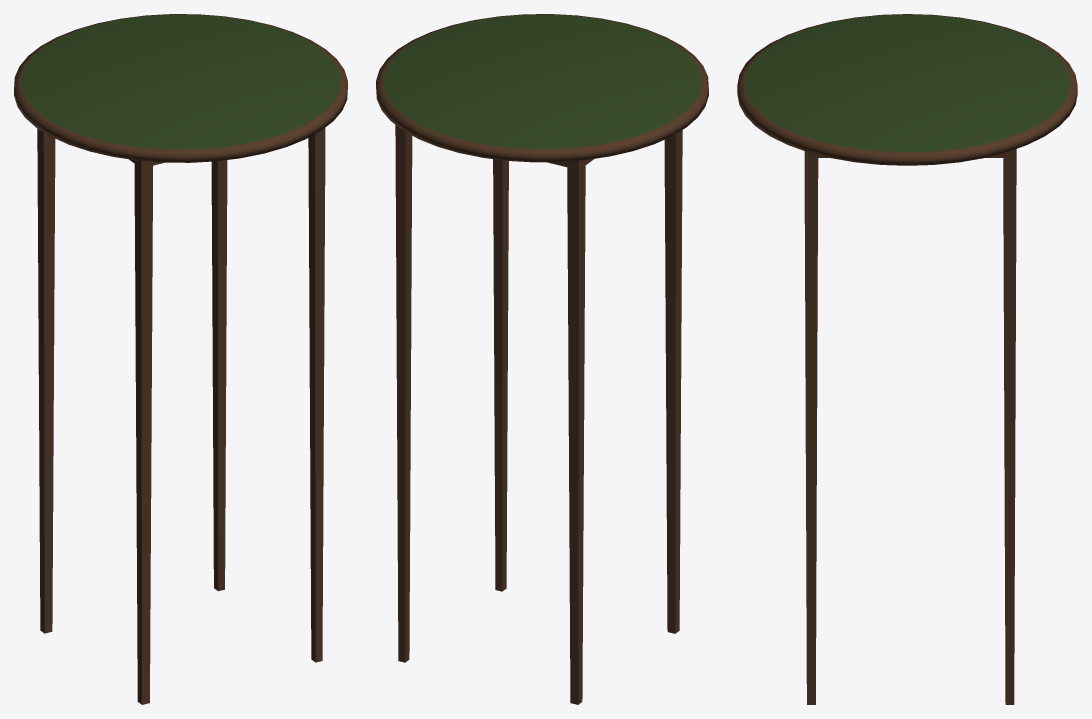
File: gamblingTable.fbx
3 views of the same model, side by side, from view 1: azimuth 30°, elevation 25°; view 2: azimuth 150°, elevation 25°; view 3: azimuth 270°, elevation 25° (orthographic). The views are drawn at different scales.
Visible parts, largest first — view 1: gamblingTable.002; view 2: gamblingTable.002; view 3: gamblingTable.002.
Boxes of the visible parts, x1,y1,x2,y2 form: gamblingTable.002: (14, 14, 347, 704); gamblingTable.002: (376, 14, 708, 704); gamblingTable.002: (737, 14, 1077, 704).
Bounding box in the file's own units: 103 × 193 × 103.
